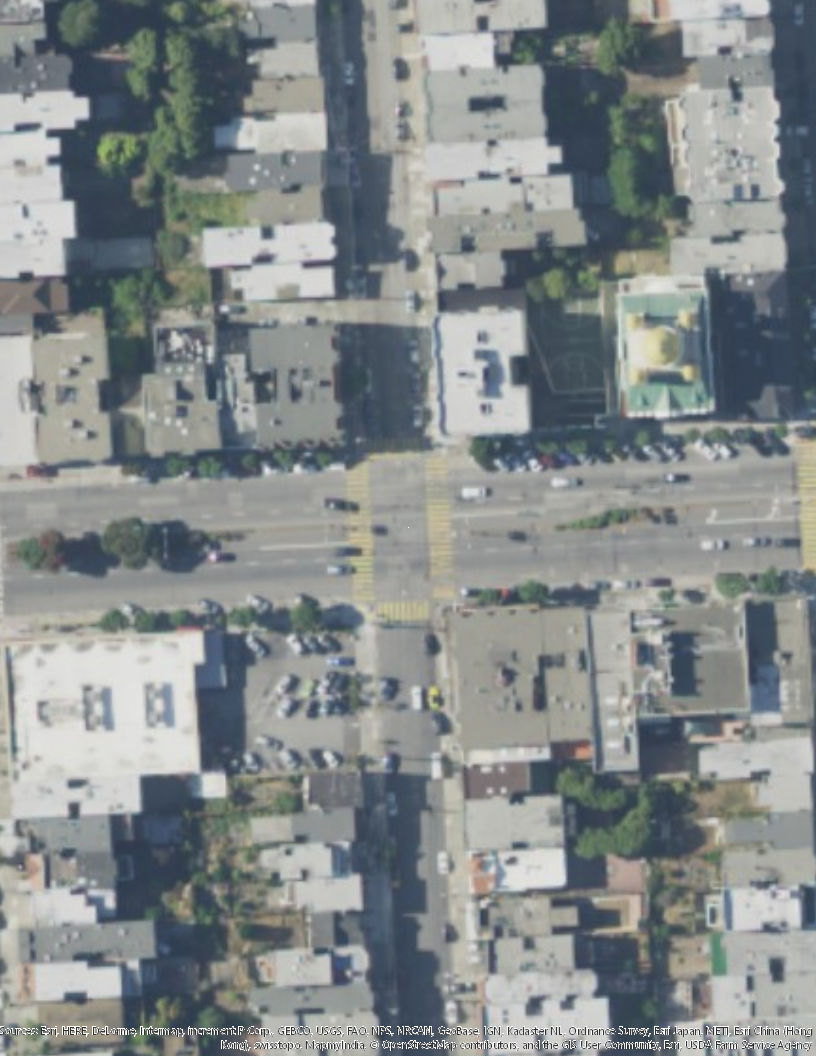zebracross: (419, 455, 458, 597), (344, 458, 376, 601), (794, 438, 816, 566), (361, 439, 422, 461), (374, 599, 429, 623)
